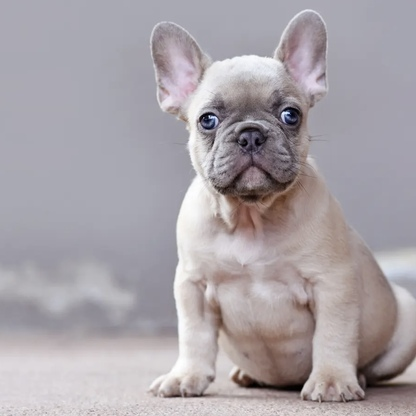bulldog: (136, 8, 416, 410)
